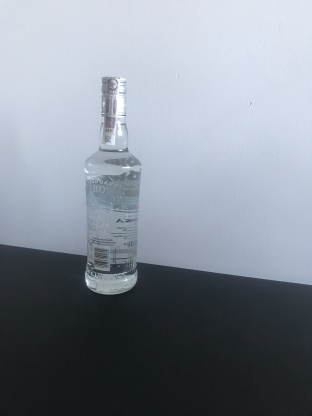nakretka: (98, 71, 129, 121)
